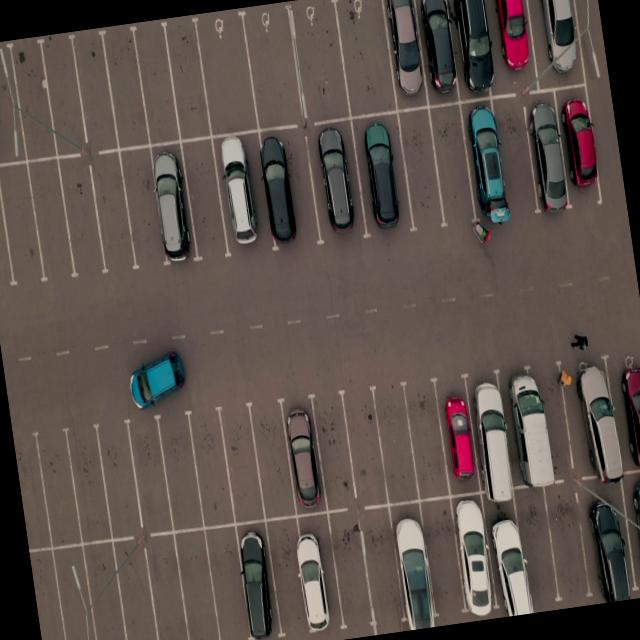car: (559, 354, 626, 480), (256, 128, 320, 253), (499, 364, 560, 492), (213, 131, 274, 258), (306, 123, 368, 245), (354, 110, 416, 232), (578, 478, 639, 602), (466, 367, 522, 493), (448, 494, 501, 620), (292, 513, 344, 636), (432, 374, 484, 496), (459, 100, 510, 224), (485, 492, 536, 616), (388, 502, 438, 628), (151, 145, 201, 268), (522, 91, 572, 210), (278, 395, 328, 513), (379, 0, 432, 110), (234, 521, 282, 640), (524, 0, 587, 89), (447, 0, 500, 101), (554, 87, 600, 200), (485, 0, 541, 92), (417, 0, 465, 106), (610, 354, 640, 477), (625, 472, 640, 594)
free: (194, 12, 262, 136), (242, 8, 310, 130), (288, 1, 352, 124), (331, 0, 396, 119), (4, 40, 59, 162), (132, 22, 186, 146), (100, 26, 154, 150), (162, 19, 216, 142), (542, 479, 596, 602), (357, 506, 410, 631), (428, 104, 481, 228), (179, 138, 232, 260), (54, 160, 107, 282), (69, 31, 122, 153), (26, 162, 78, 286), (90, 420, 144, 539), (30, 431, 83, 552), (126, 416, 180, 534), (188, 406, 241, 526), (154, 412, 207, 532), (36, 34, 88, 156), (88, 155, 140, 277), (402, 382, 455, 501), (63, 426, 116, 544), (322, 510, 373, 632), (420, 498, 470, 622), (262, 516, 312, 640), (395, 106, 445, 229), (339, 387, 391, 505), (216, 404, 268, 522), (248, 399, 300, 517), (368, 385, 420, 503), (116, 146, 166, 268), (512, 486, 561, 609), (307, 392, 358, 509), (204, 524, 254, 640), (0, 165, 46, 290), (170, 530, 222, 640), (494, 95, 541, 216), (75, 543, 133, 640), (144, 533, 196, 640), (108, 538, 161, 640), (12, 426, 53, 549), (46, 546, 99, 640), (29, 548, 69, 640), (0, 44, 25, 164), (0, 171, 15, 293)
